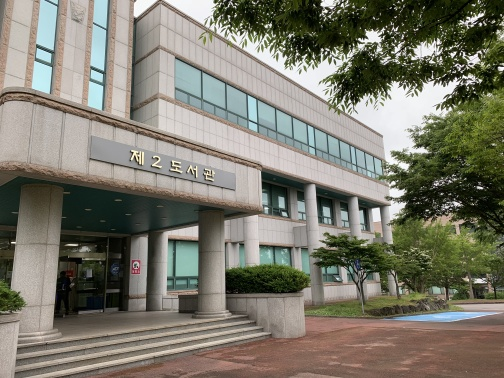Second Library: (30, 30, 384, 312)
